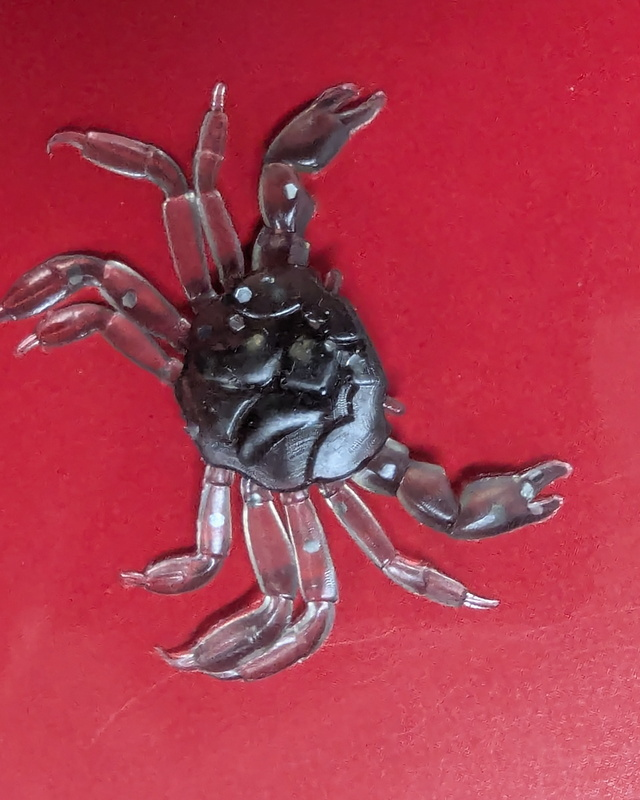crab1: (1, 75, 573, 681)
